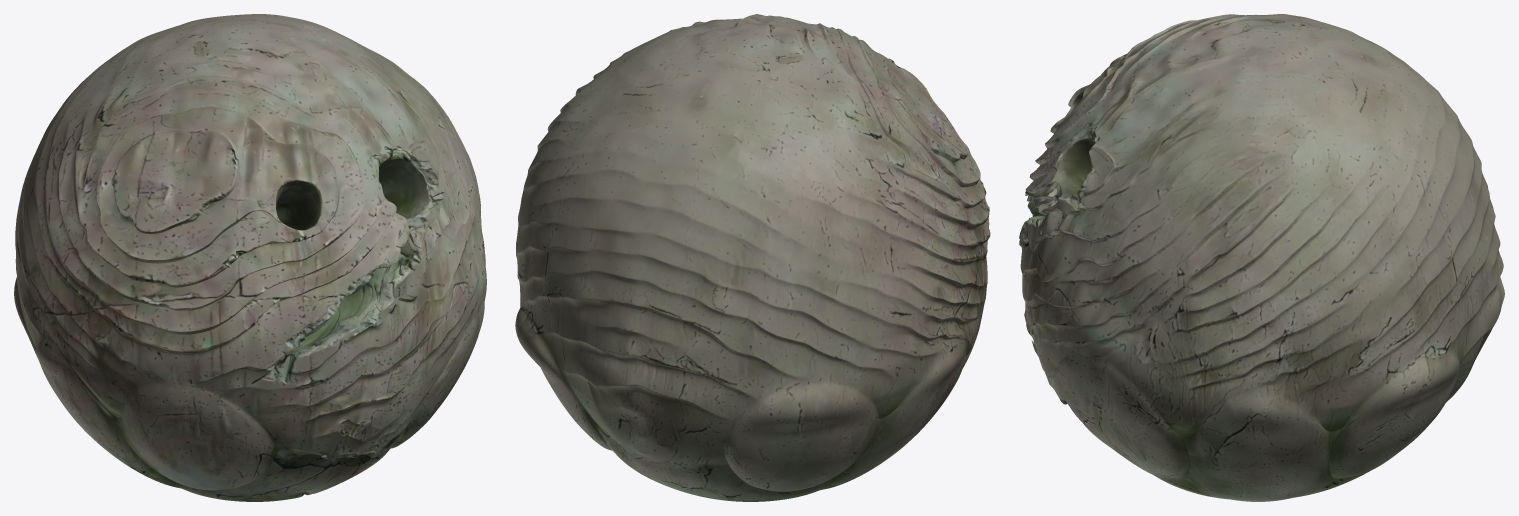
The model's file is concrete-blob-rounded.glb.
3 views of the same model, side by side, from view 1: azimuth 30°, elevation 25°; view 2: azimuth 150°, elevation 25°; view 3: azimuth 270°, elevation 25° (orthographic).
Parts seen in each view (by area): view 1: model; view 2: model; view 3: model.
Part boxes in pixels (left/top/right/bottom): model: left=14, top=14, right=486, bottom=501; model: left=515, top=14, right=990, bottom=501; model: left=1019, top=14, right=1504, bottom=501.
Bounding box in the file's own units: 1.81 × 1.85 × 1.84.
1 material, 1 textured.
